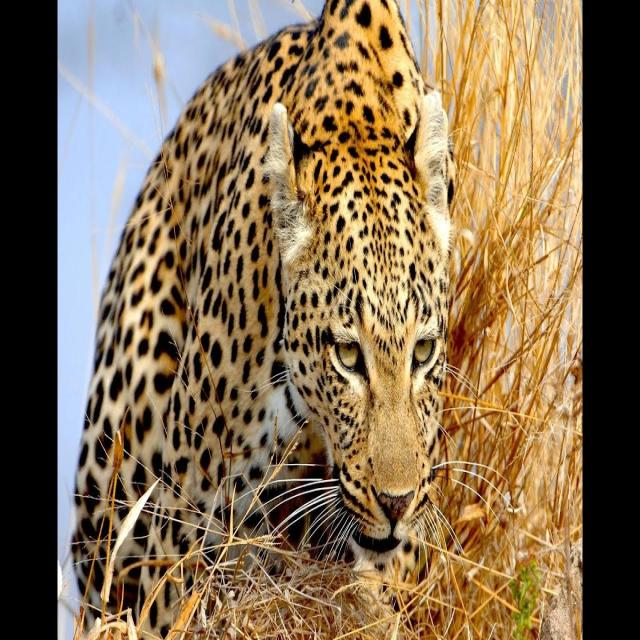Leopard: (70, 15, 450, 614)
